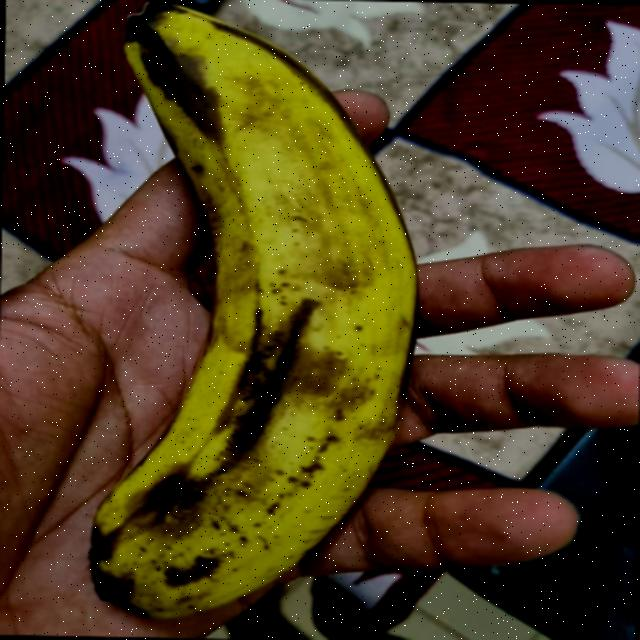Overripe: (36, 0, 428, 635)
